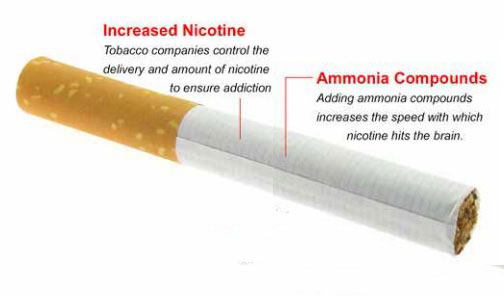cigarette: (11, 49, 490, 271)
